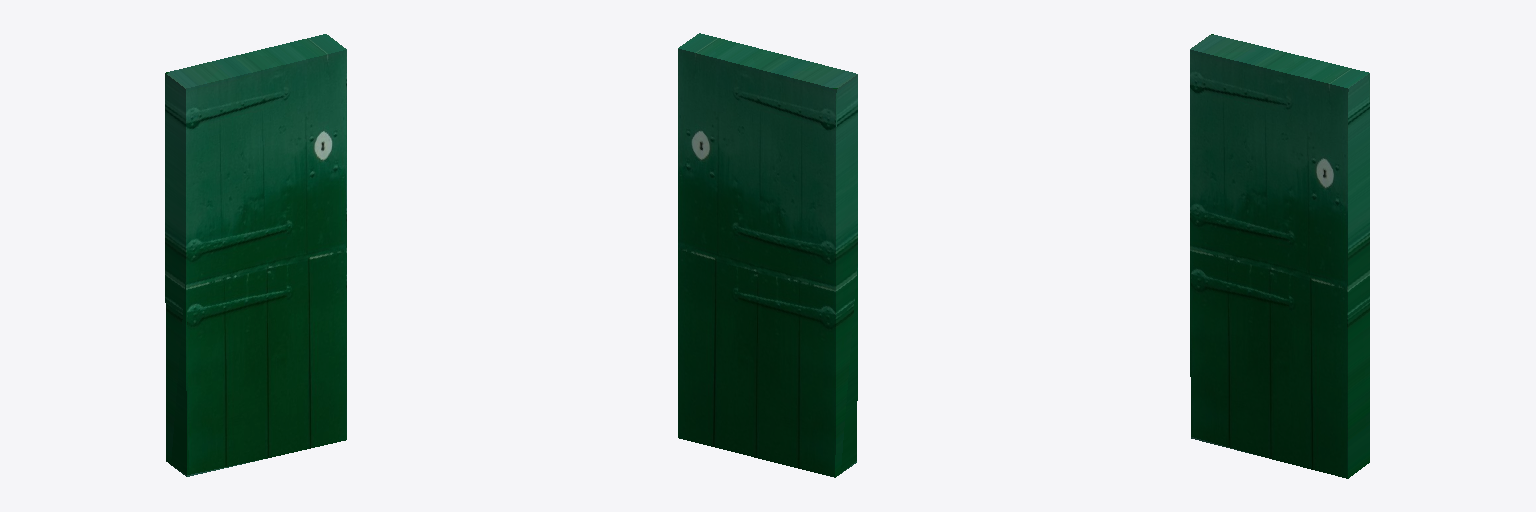
The picture shows the model from 3 angles: view 1: azimuth 30°, elevation 25°; view 2: azimuth 150°, elevation 25°; view 3: azimuth 330°, elevation 25°; orthographic projection.
Parts seen in each view (by area): view 1: pasted__polySurface62 pasted__pCube3 group; view 2: pasted__polySurface62 pasted__pCube3 group; view 3: pasted__polySurface62 pasted__pCube3 group.
Part boxes in pixels (x1,y1,x2,y2): pasted__polySurface62 pasted__pCube3 group: (165,34,346,476); pasted__polySurface62 pasted__pCube3 group: (678,33,857,477); pasted__polySurface62 pasted__pCube3 group: (1190,34,1369,478).
Bounding box in the file's own units: 0.5895 × 1.37 × 0.1438.
1 materials, 1 textured.